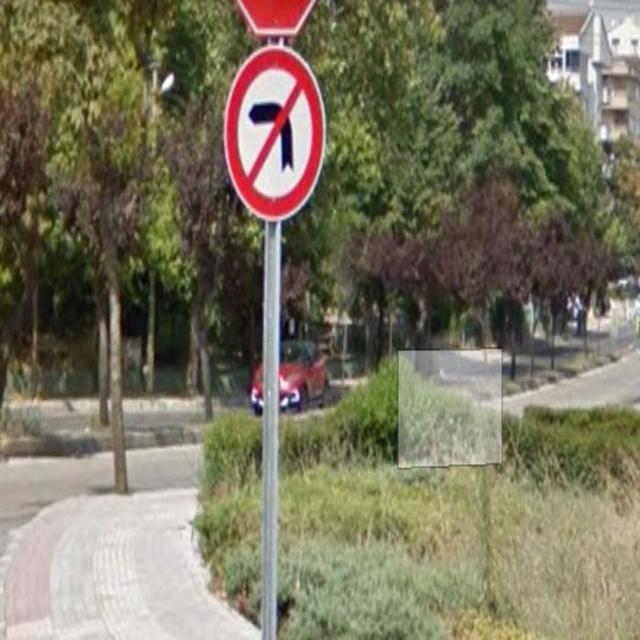soladonulmez: (224, 45, 326, 223)
